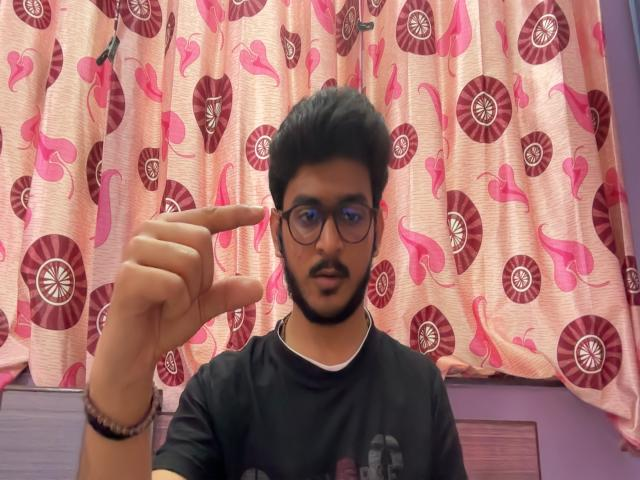No: (80, 197, 275, 367)
